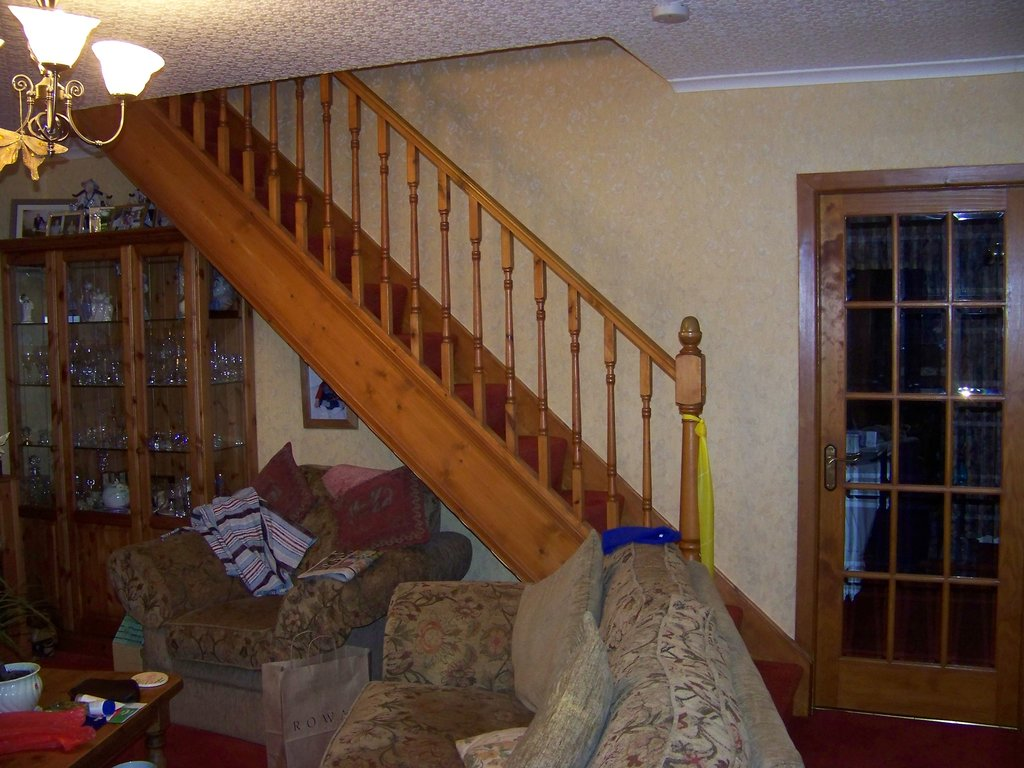Door: (790, 164, 1023, 735)
